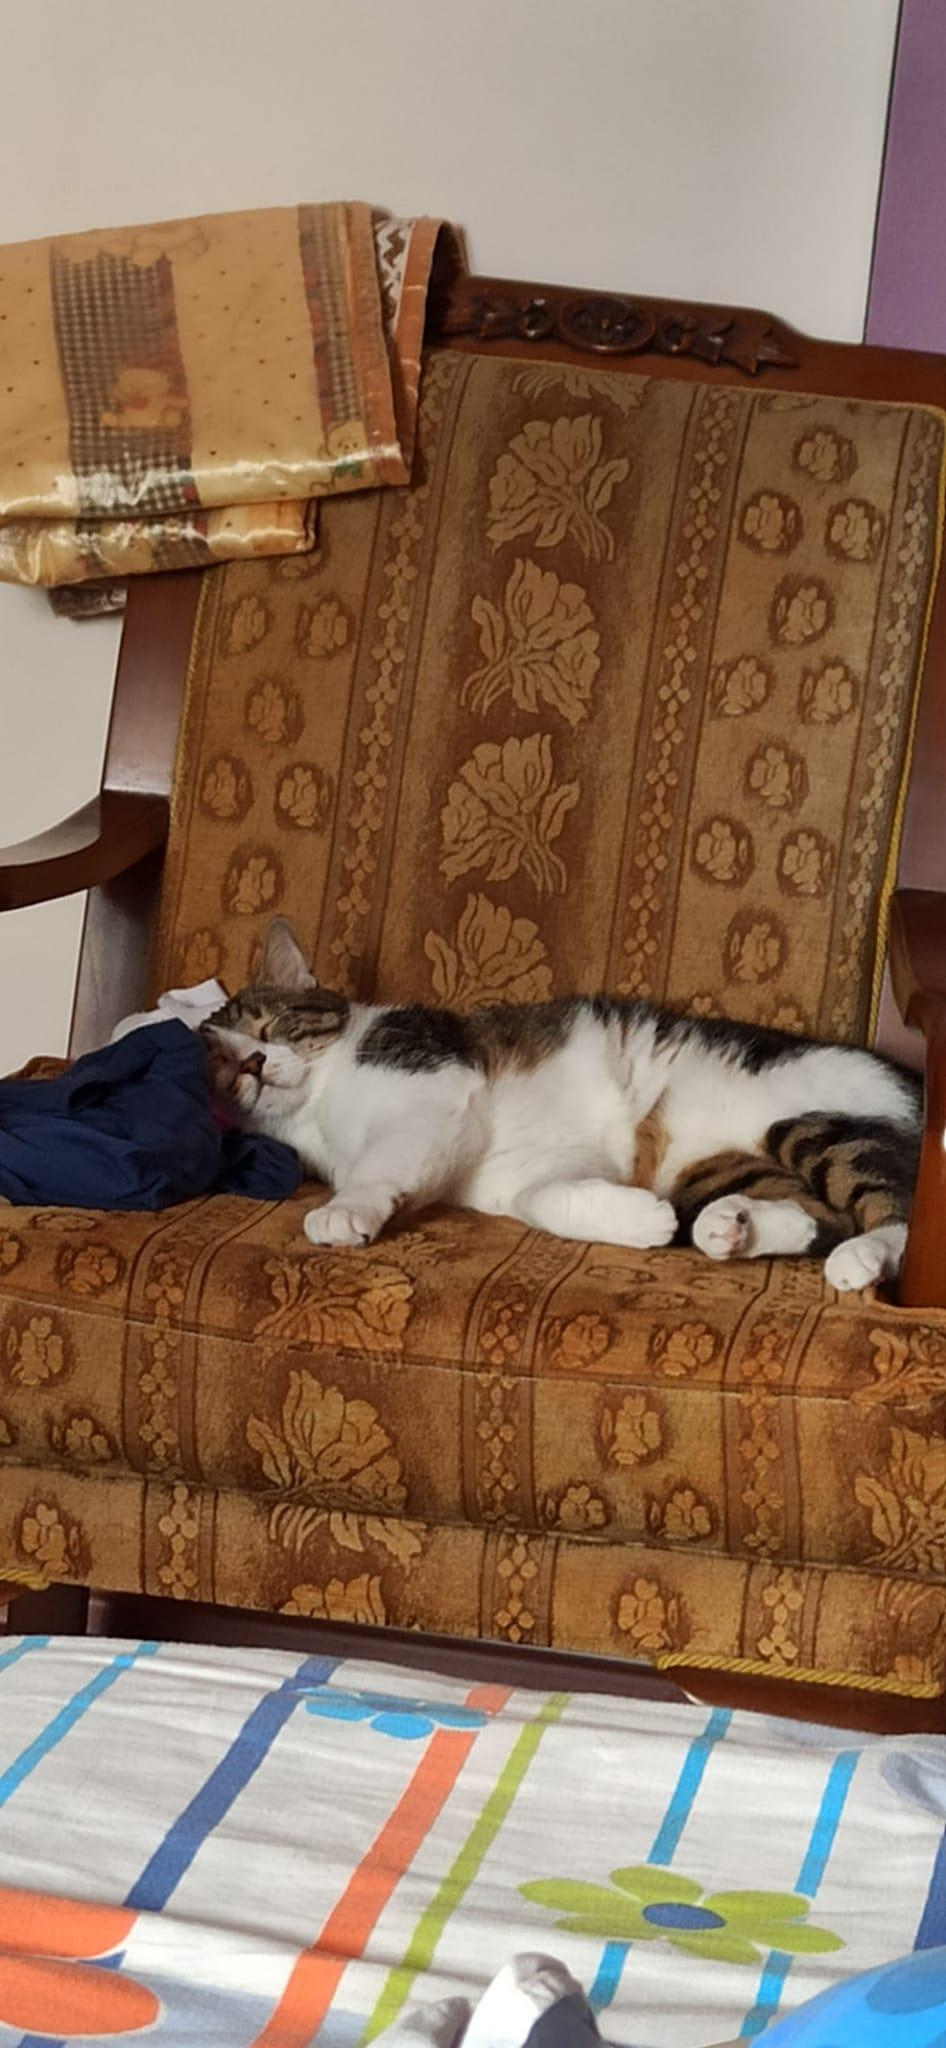kedo: (199, 921, 938, 1293)
